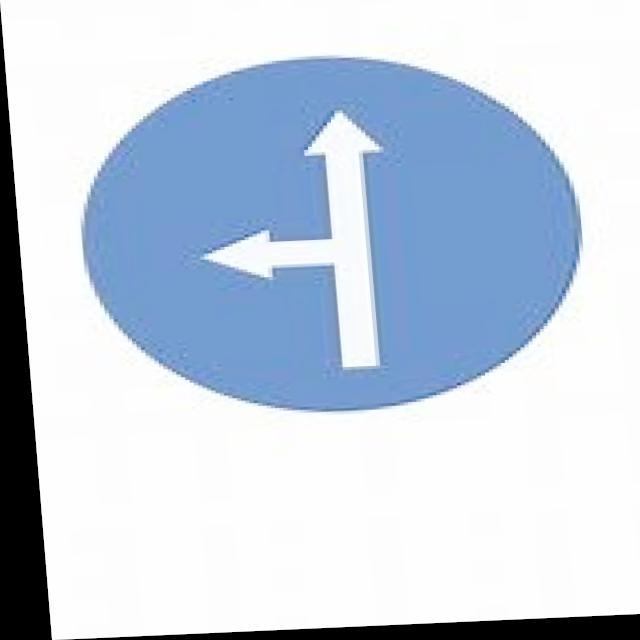COMPULSARY_AHEAD_OR_TURN_LEFT: (58, 44, 595, 431)
